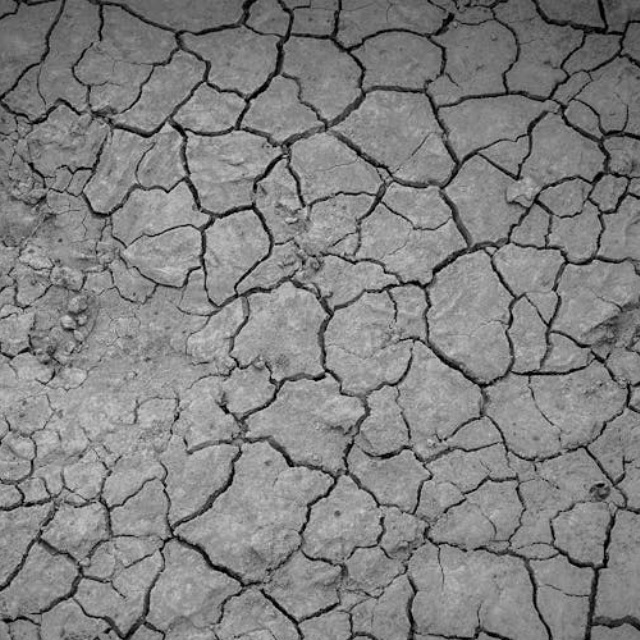网状裂隙: (24, 0, 640, 553), (45, 210, 640, 640), (243, 52, 640, 442)
